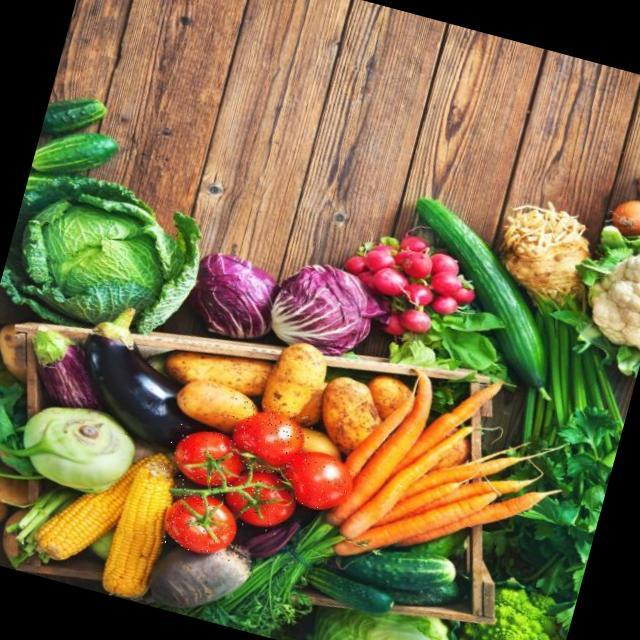Tomate: (218, 397, 319, 483), (158, 420, 258, 504), (267, 442, 361, 517), (157, 485, 245, 561), (218, 468, 307, 540)
